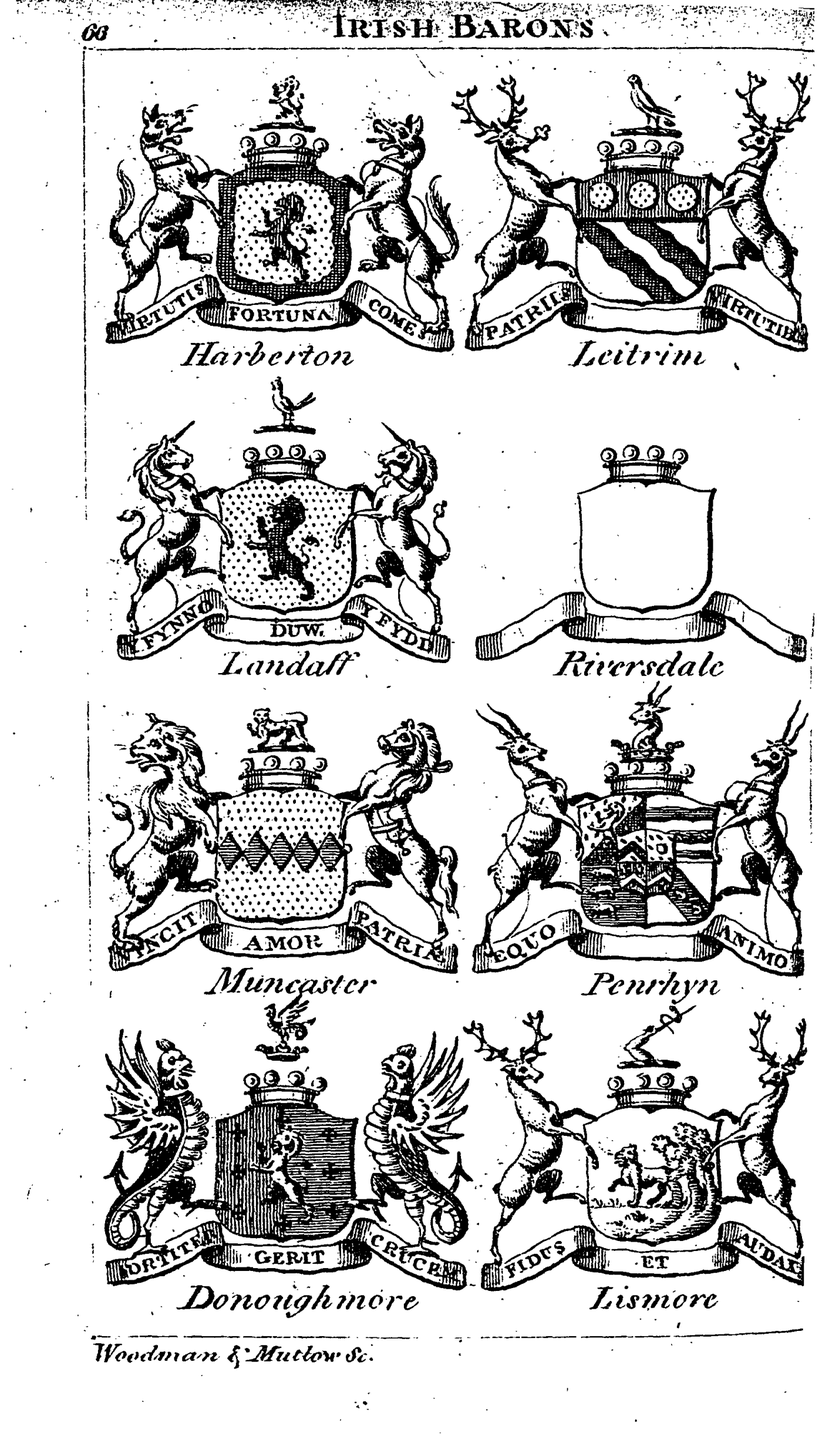coat_of_arms: (451, 59, 821, 387), (99, 55, 458, 389), (99, 692, 466, 1003), (99, 1014, 468, 1321), (470, 693, 822, 996), (467, 1008, 822, 1307), (92, 403, 454, 680), (463, 405, 803, 674)
